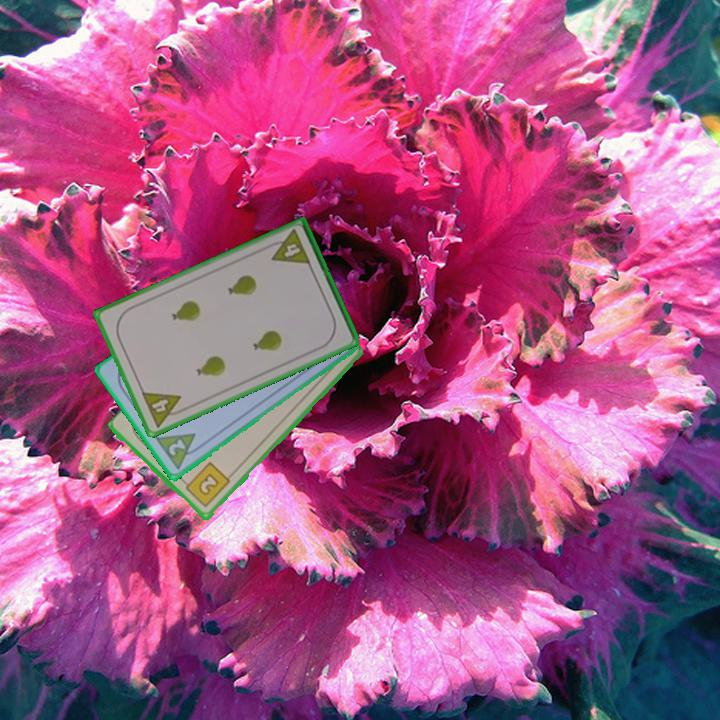2b: (180, 459, 233, 511)
2p: (152, 430, 206, 473)
4p: (138, 388, 189, 430), (264, 226, 313, 268)
